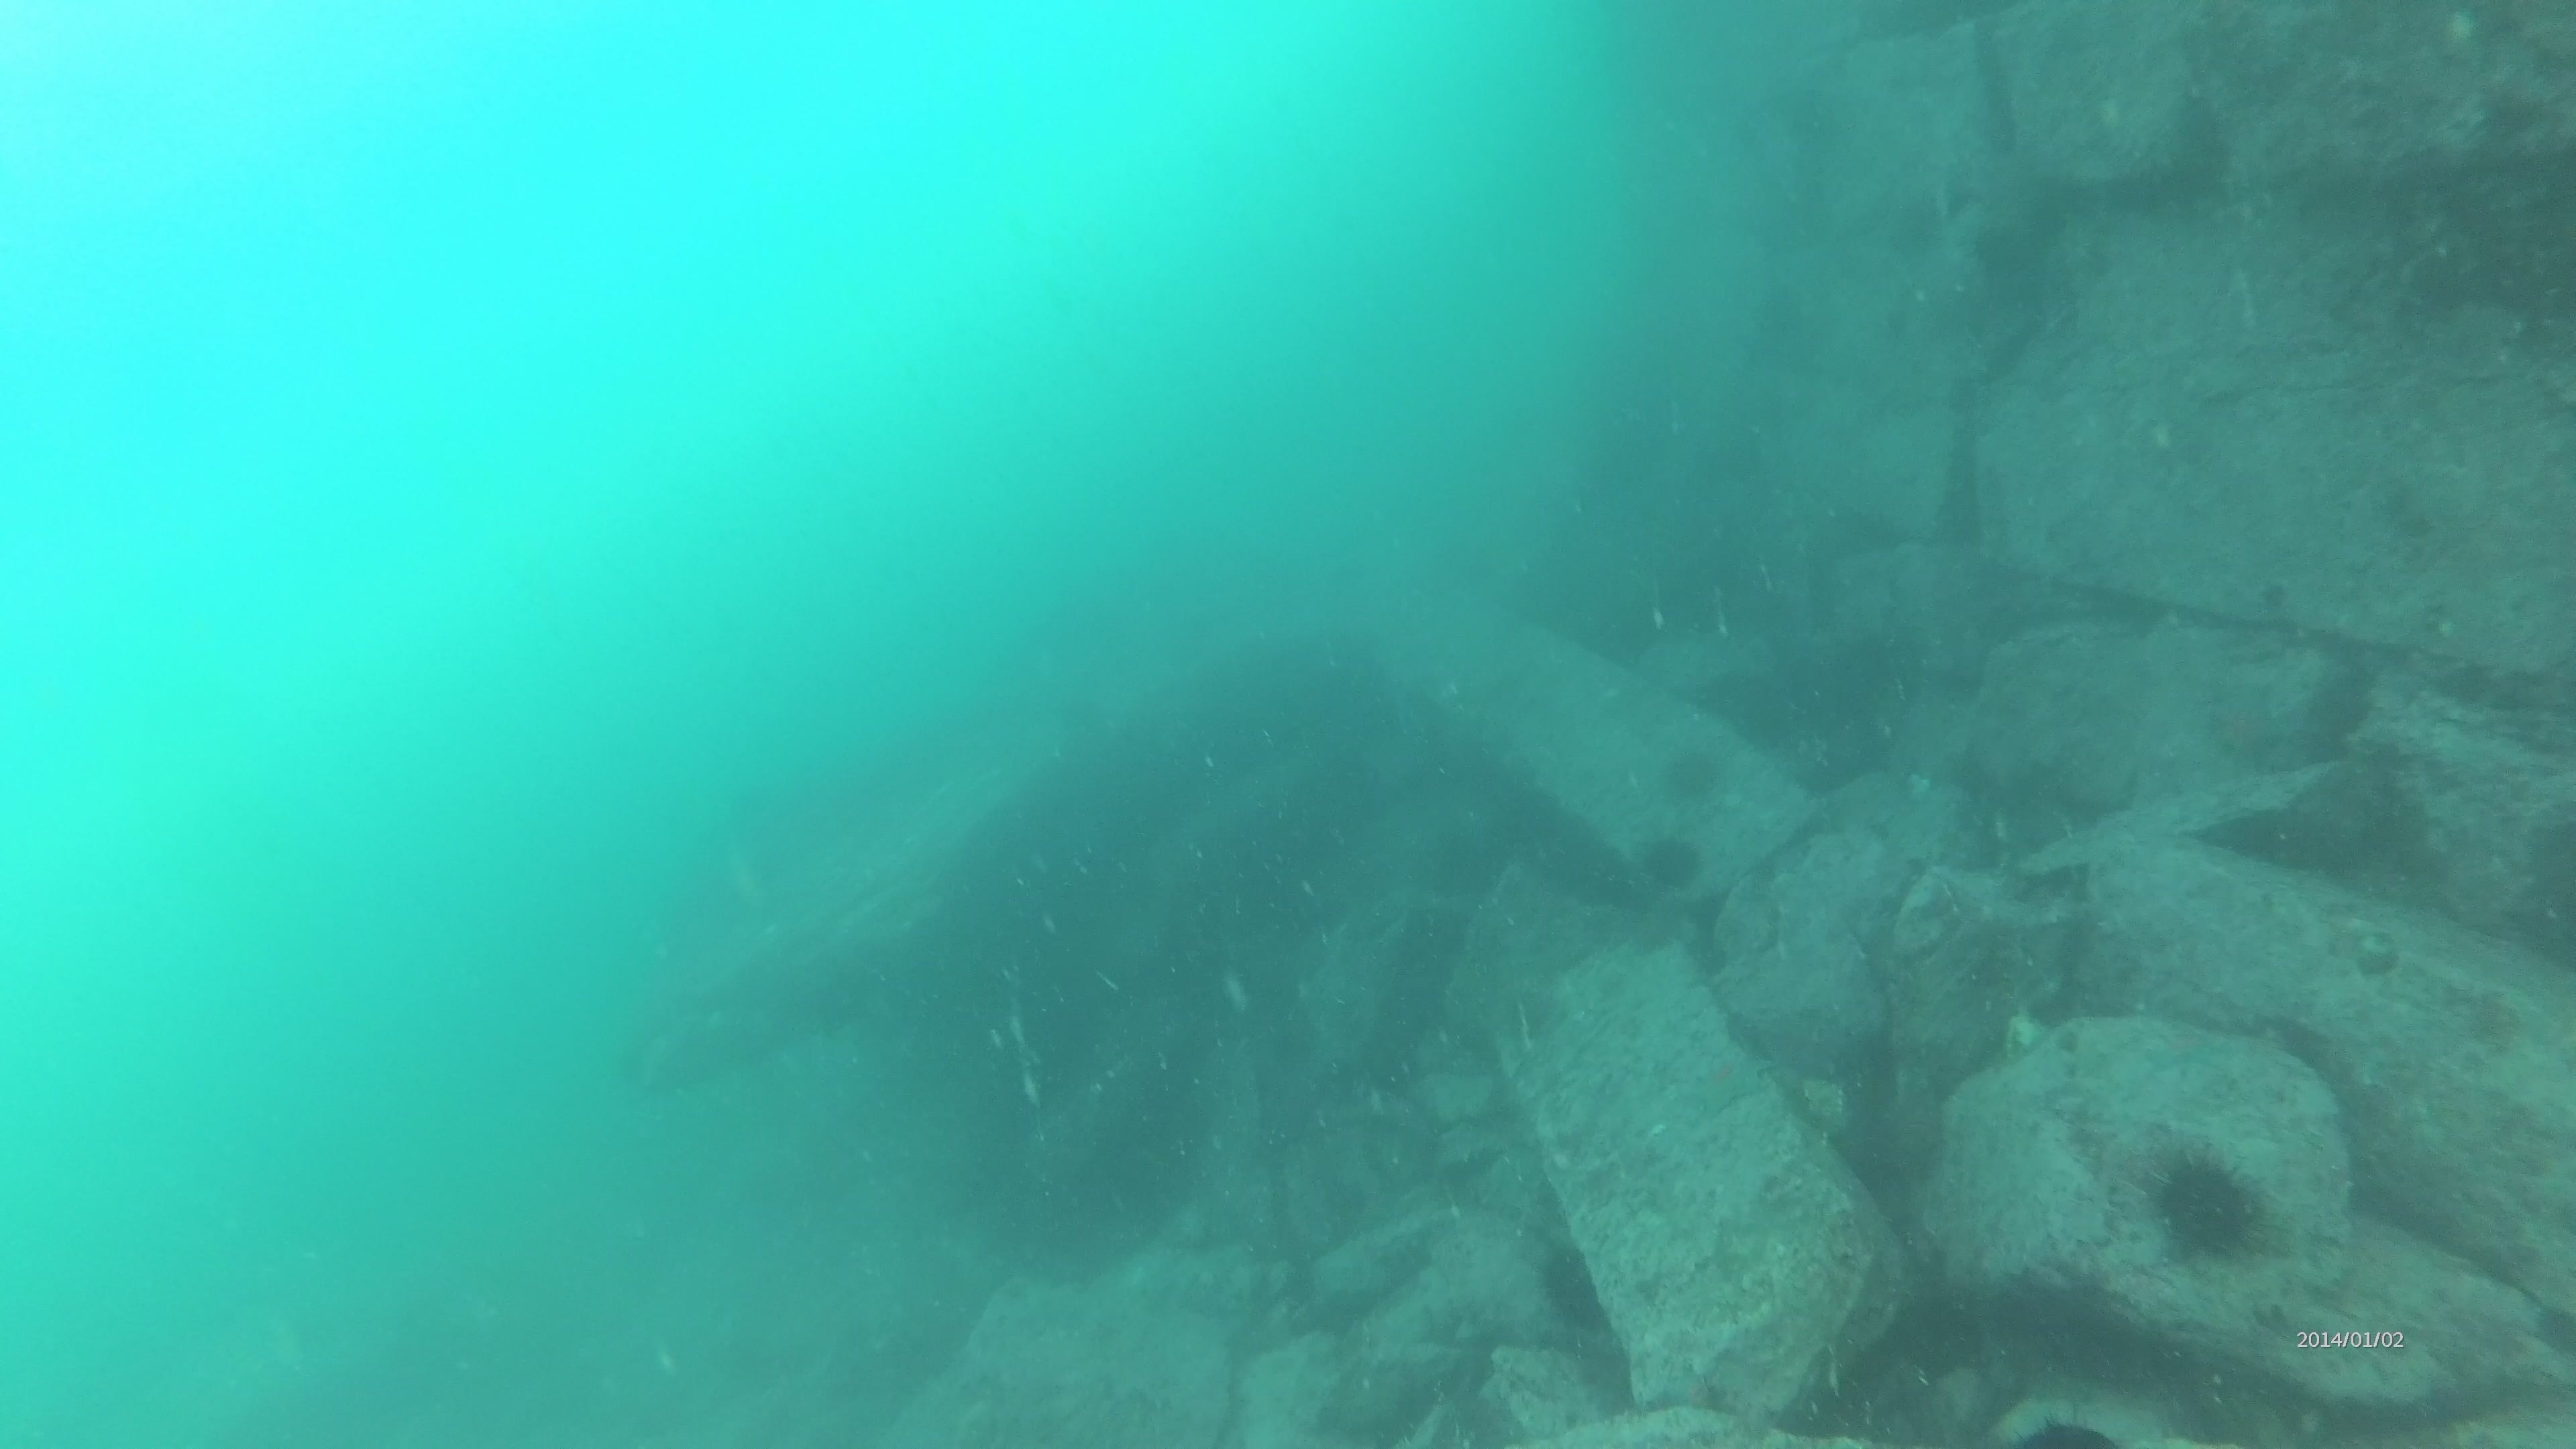echinus: (2139, 1143, 2277, 1270), (1652, 736, 1734, 812), (1631, 826, 1709, 899)
